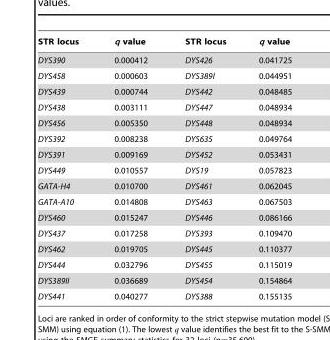table: (36, 36, 291, 300)
table column: (165, 36, 241, 300), (95, 36, 165, 300), (36, 36, 95, 300), (241, 36, 291, 300)
table column header: (36, 36, 291, 50)
table row: (36, 50, 291, 67), (36, 67, 291, 83), (36, 83, 291, 99), (36, 99, 291, 115), (36, 130, 291, 146), (36, 146, 291, 162), (36, 162, 291, 178), (36, 193, 291, 209), (36, 209, 291, 225), (36, 225, 291, 241), (36, 256, 291, 272), (36, 272, 291, 288), (36, 115, 291, 130), (36, 178, 291, 193), (36, 241, 291, 256), (36, 36, 291, 50), (36, 288, 291, 300)
